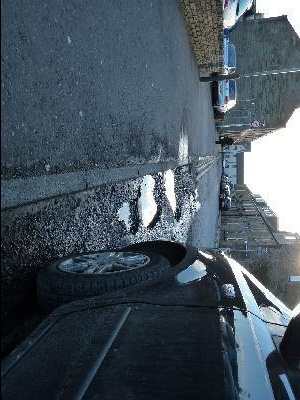pothole: (138, 172, 161, 228), (160, 166, 183, 221), (115, 197, 138, 234)
